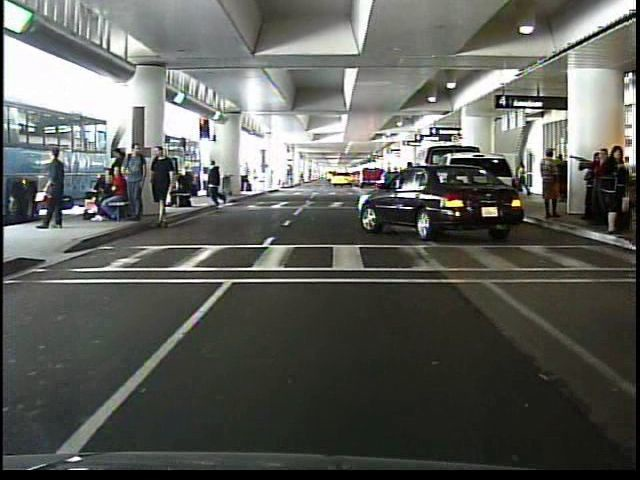person: (43, 142, 75, 235), (538, 147, 563, 222), (206, 157, 232, 208), (171, 164, 198, 208), (516, 157, 534, 198)
